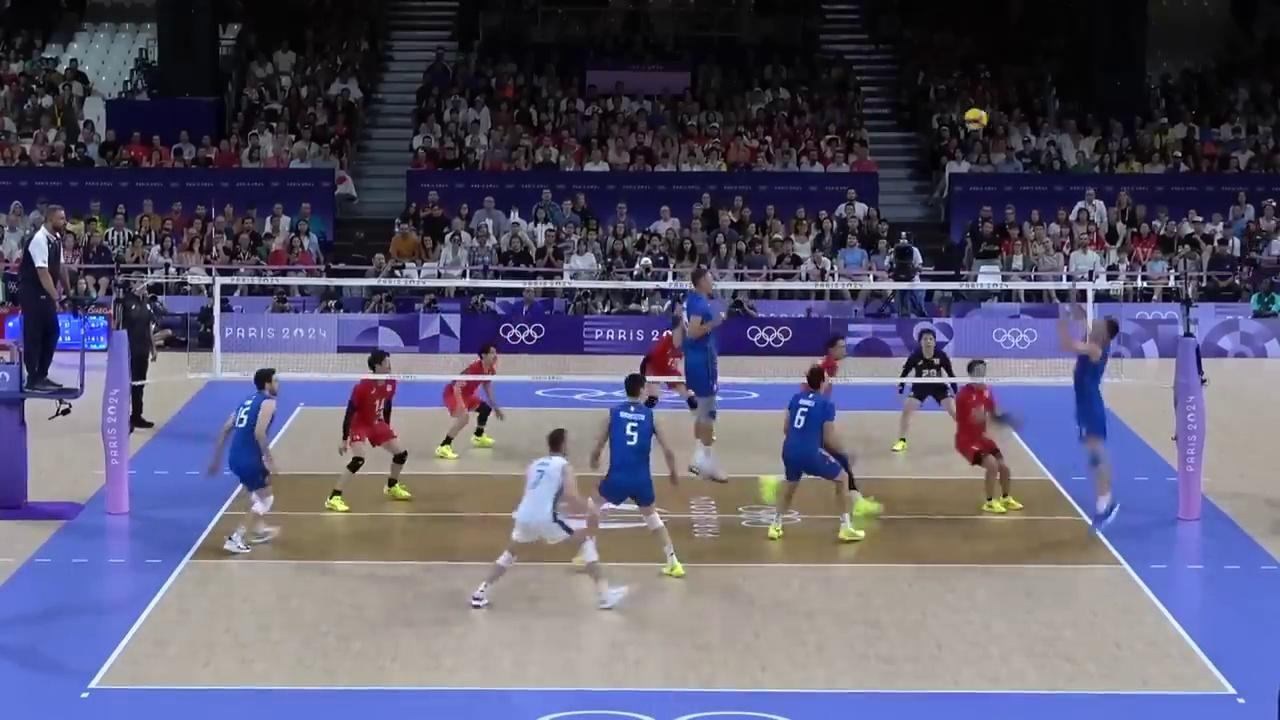ball: (963, 108, 985, 131)
